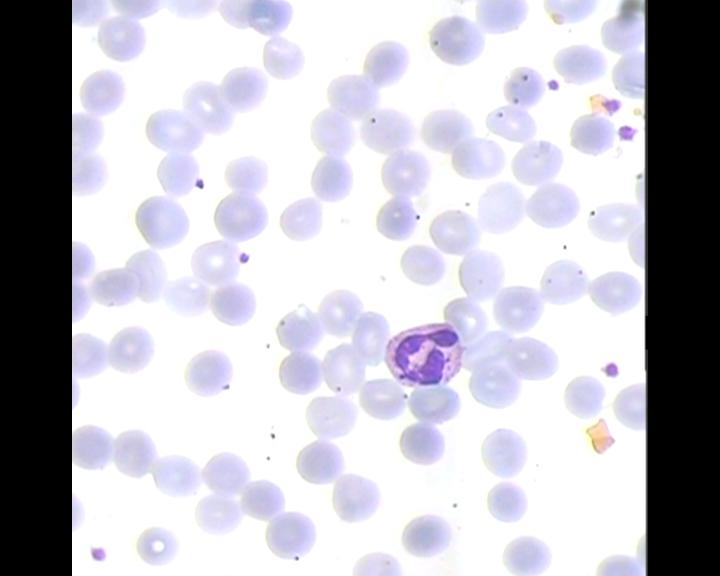neut: (383, 322, 466, 392)
